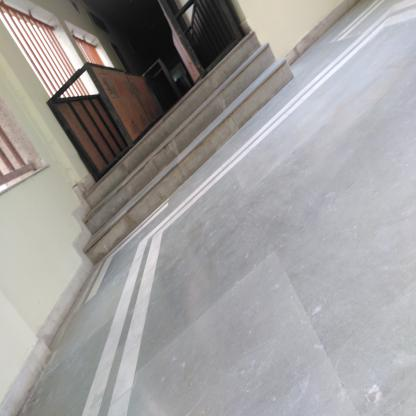stairs: (158, 110, 218, 170)
